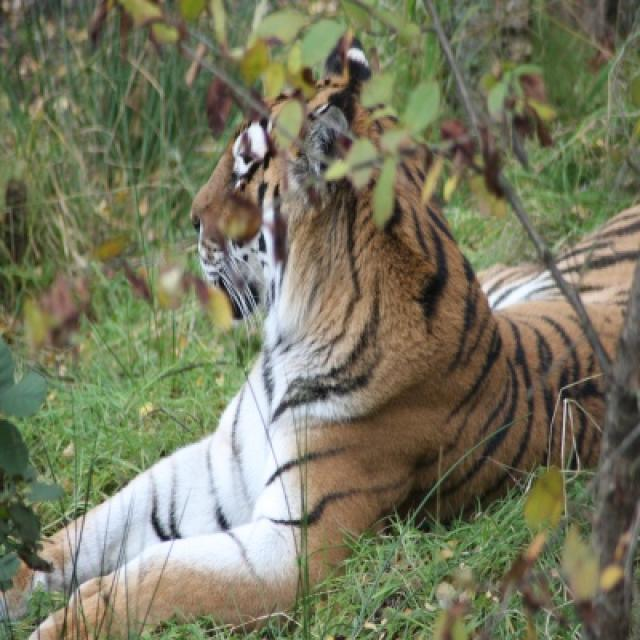Tiger: (13, 72, 638, 638)
